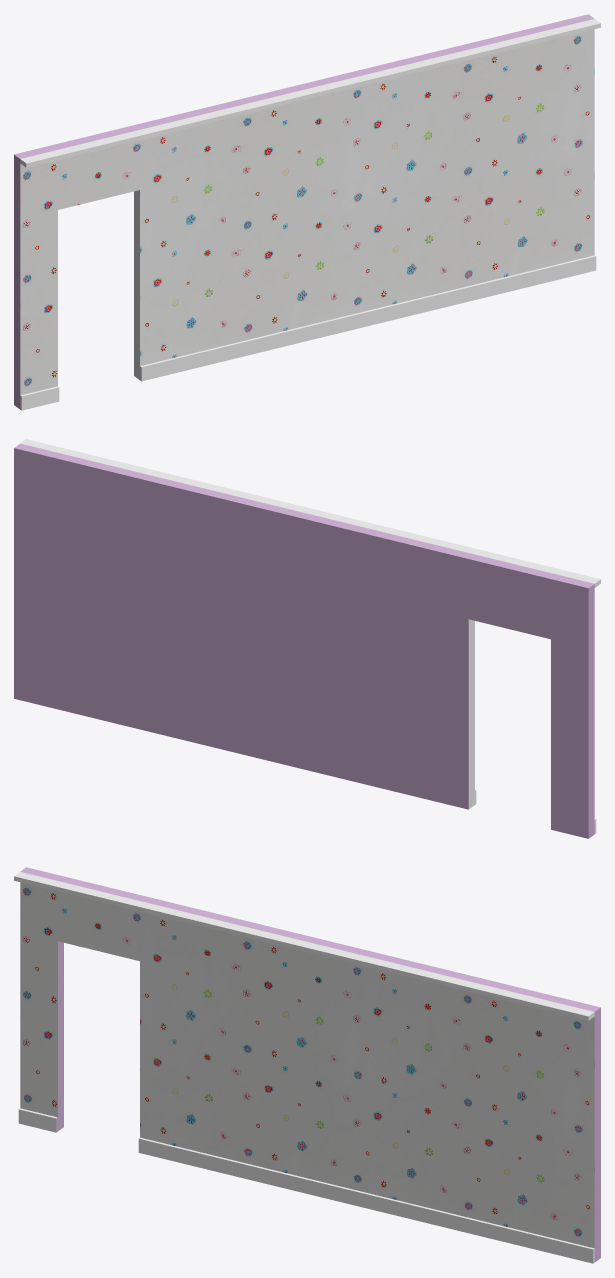
The model's file is Wall 1.FBX.
The picture shows the model from 3 angles, top to bottom: view 1: azimuth 30°, elevation 25°; view 2: azimuth 150°, elevation 25°; view 3: azimuth 330°, elevation 25°; orthographic projection.
Visible parts, largest first — view 1: wall 1; view 2: wall 1; view 3: wall 1.
Boxes of the visible parts, bbox=[...] form: wall 1: bbox=[14, 14, 600, 410]; wall 1: bbox=[14, 439, 600, 838]; wall 1: bbox=[14, 867, 600, 1263].
Bounding box in the file's own units: 7500 × 280 × 3126.
3 materials, 1 textured.
